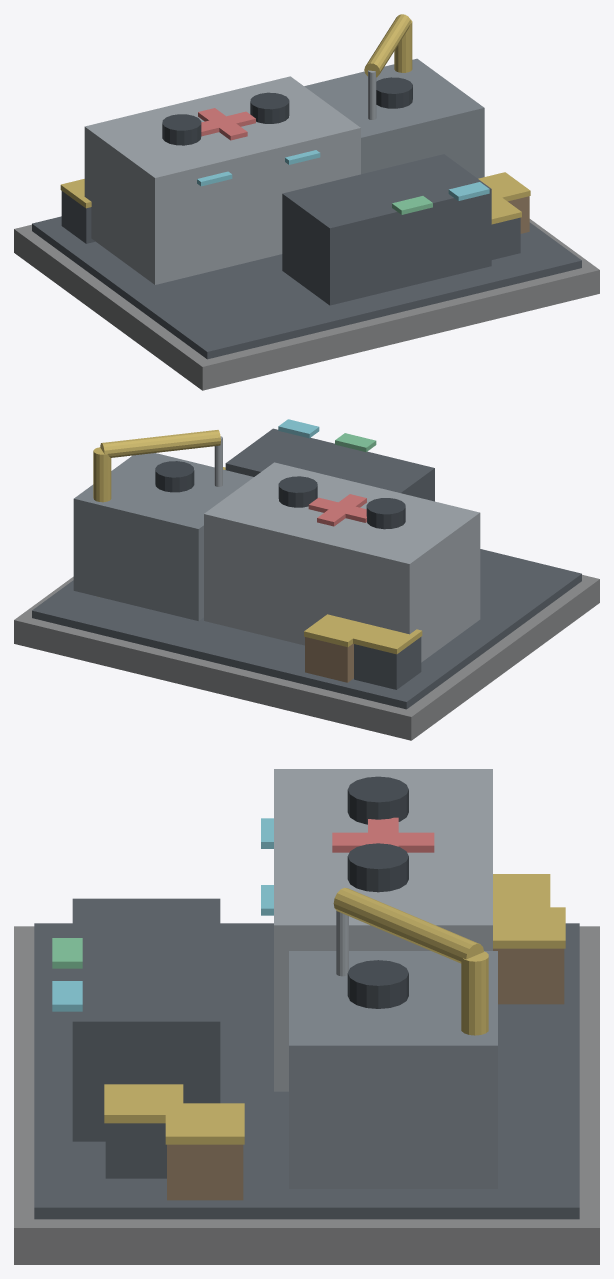
File: human_support_camp.glb
The picture shows the model from 3 angles, top to bottom: view 1: azimuth 30°, elevation 25°; view 2: azimuth 150°, elevation 25°; view 3: azimuth 270°, elevation 25°; orthographic projection. The views are drawn at different scales.
Visible parts, largest first — view 1: medical_module, foundation_top, command_module, foundation, logistics_module, supply_crate_0, roof_vent_-0.72, support_crane_arm, roof_vent_-0.1, supply_crate_2, roof_vent_0.77, crate_strap_3 (+7 smaller); view 2: medical_module, foundation_top, foundation, logistics_module, command_module, supply_crate_0, support_crane_arm, supply_crate_1, crate_strap_1, crate_strap_0, roof_vent_0.77, roof_vent_-0.72 (+6 smaller); view 3: foundation_top, logistics_module, foundation, medical_module, command_module, supply_crate_3, support_crane_arm, supply_crate_1, supply_crate_2, crate_strap_3, crate_strap_1, crate_strap_2 (+9 smaller).
Boxes of the visible parts, x1,y1,x2,y2 form: medical_module: (84,76,360,284); foundation_top: (32,216,581,359); command_module: (282,154,491,305); foundation: (14,219,599,390); logistics_module: (304,58,484,178); supply_crate_0: (61,191,95,243); roof_vent_-0.72: (162,114,201,145); support_crane_arm: (364,14,411,77); roof_vent_-0.1: (250,92,289,123); supply_crate_2: (491,217,520,259); roof_vent_0.77: (376,77,412,108); crate_strap_3: (478,172,530,201); medical_module: (204,462,480,662); foundation_top: (32,549,581,709); foundation: (14,574,599,740); logistics_module: (73,453,253,620); command_module: (225,428,434,501); supply_crate_0: (354,637,421,689); support_crane_arm: (100,430,220,457); supply_crate_1: (305,637,353,682); crate_strap_1: (304,614,370,647); crate_strap_0: (353,625,422,654); roof_vent_0.77: (155,461,194,492); roof_vent_-0.72: (366,498,405,529); foundation_top: (34,923,579,1219); logistics_module: (289,951,497,1188); foundation: (14,926,599,1264); medical_module: (274,769,492,1091); command_module: (72,898,220,1141); supply_crate_3: (167,1144,243,1200); support_crane_arm: (333,887,483,963); supply_crate_1: (493,948,564,1004); supply_crate_2: (105,1123,166,1178); crate_strap_3: (165,1103,244,1144); crate_strap_1: (493,907,565,948); crate_strap_2: (104,1084,183,1123).
Size of the model in its own units: 2.8 by 1.23 by 2.3.
